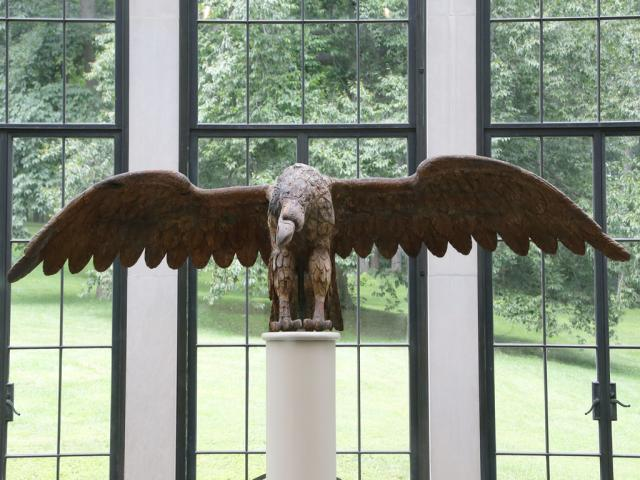Bird: (7, 156, 632, 331)
